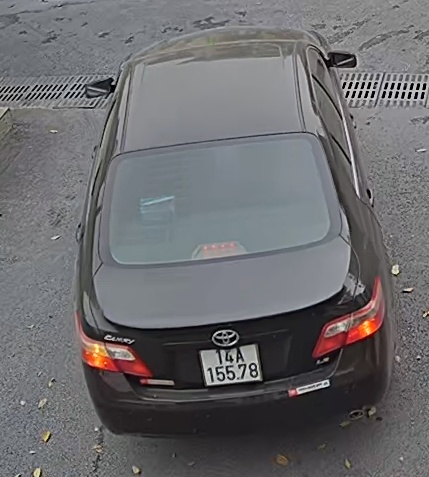vehicle plate: (195, 338, 269, 386)
